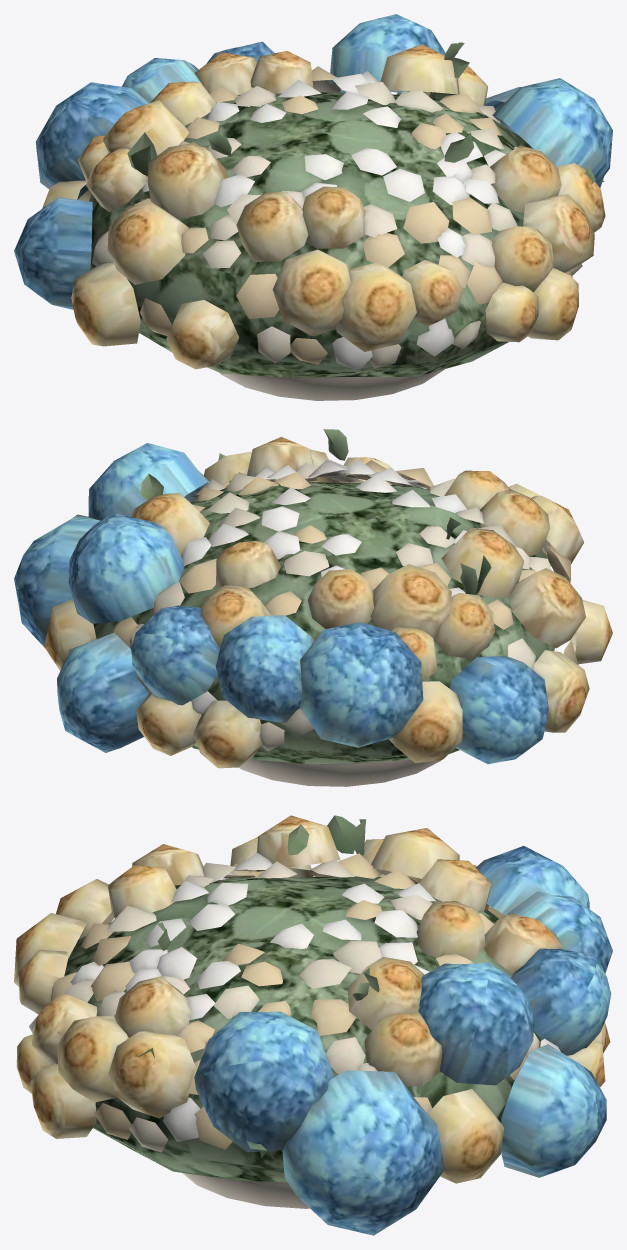
Rendered from centrepiece_low.glb.
3 views of the same model, one above another, from view 1: azimuth 30°, elevation 25°; view 2: azimuth 150°, elevation 25°; view 3: azimuth 270°, elevation 25° (orthographic). The views are drawn at different scales.
Visible parts, largest first — view 1: centrepiece_low; view 2: centrepiece_low; view 3: centrepiece_low.
Part boxes in pixels (box(x1,y1,x2,y2)): centrepiece_low: box(14, 14, 612, 400); centrepiece_low: box(14, 429, 612, 786); centrepiece_low: box(14, 815, 612, 1235).
Bounding box in the file's own units: 0.7344 × 0.3295 × 0.6455.
1 material, 1 textured.
